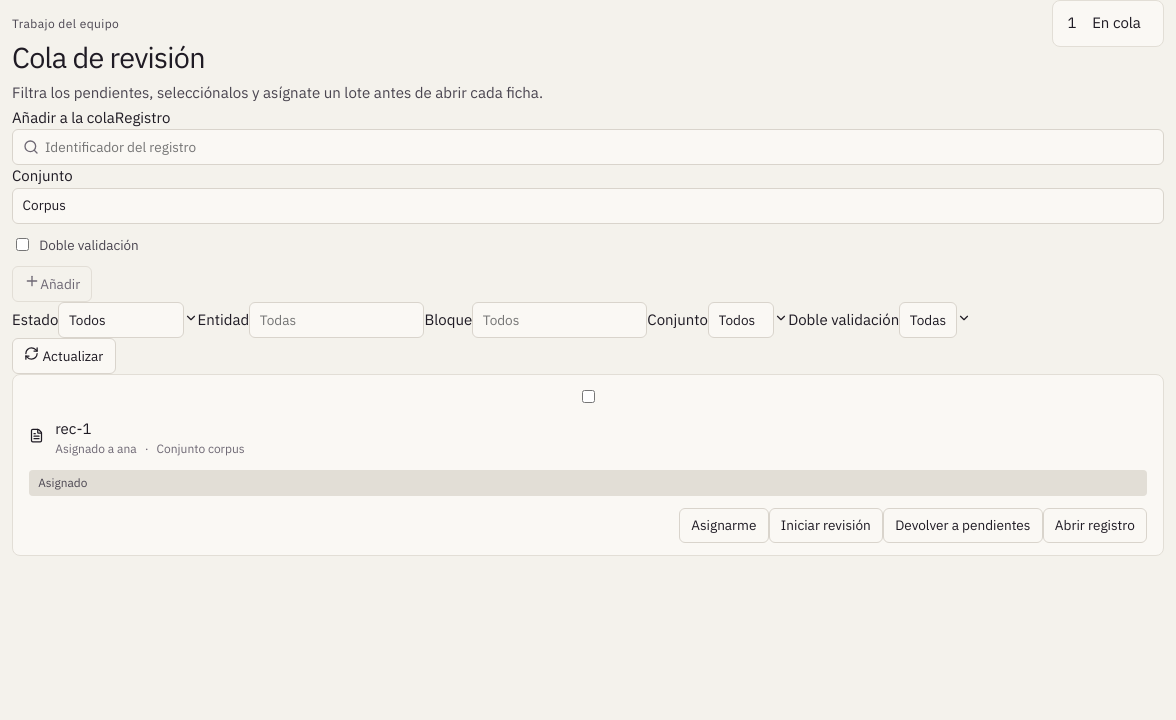
envía la versión observada al iniciar revisión y refleja el resultado
Click the button "Iniciar revisión" at (826, 525), box x1=769 y1=508 x2=883 y2=543
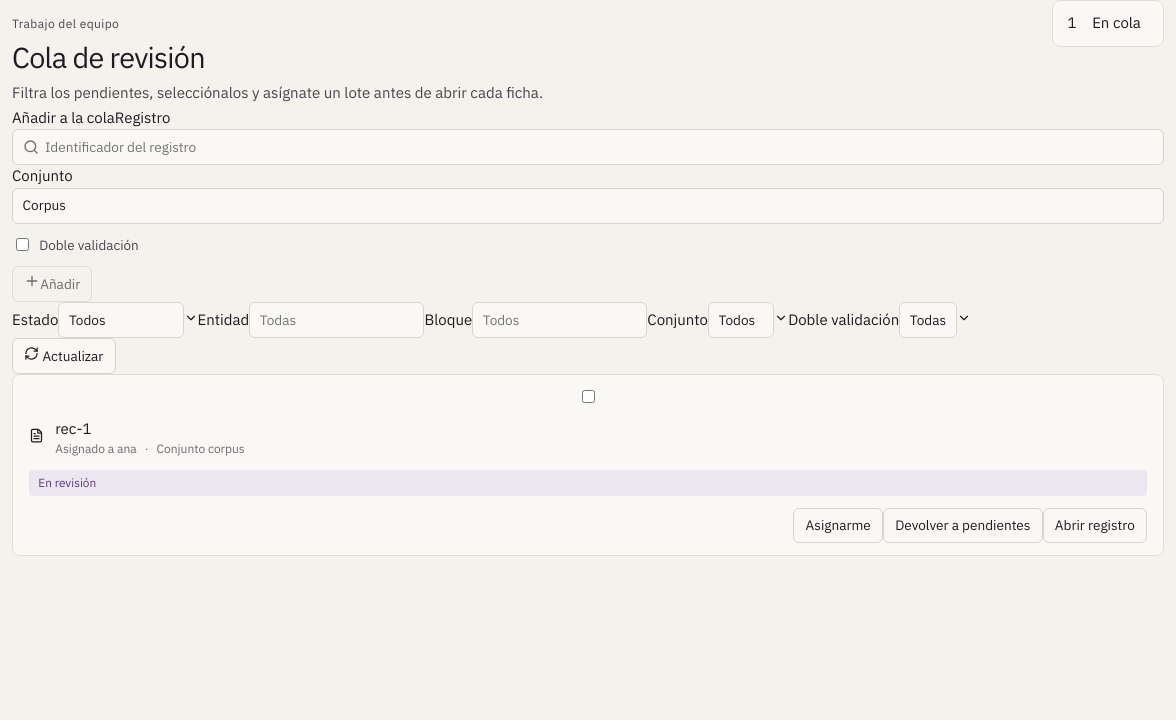
Check: the button "Devolver a pendientes" is enabled, box x1=883 y1=508 x2=1043 y2=543
Check: the button "Iniciar revisión" is gone
